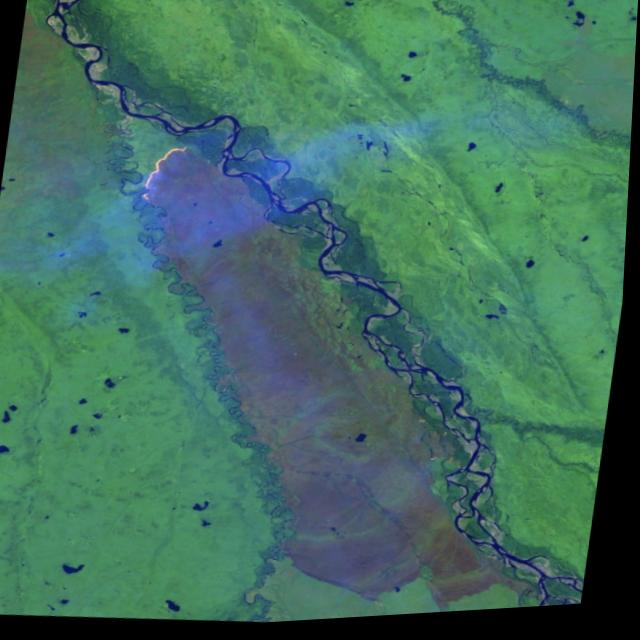fire: (132, 137, 199, 214)
